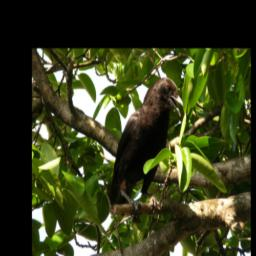Crow: (107, 74, 186, 216)
